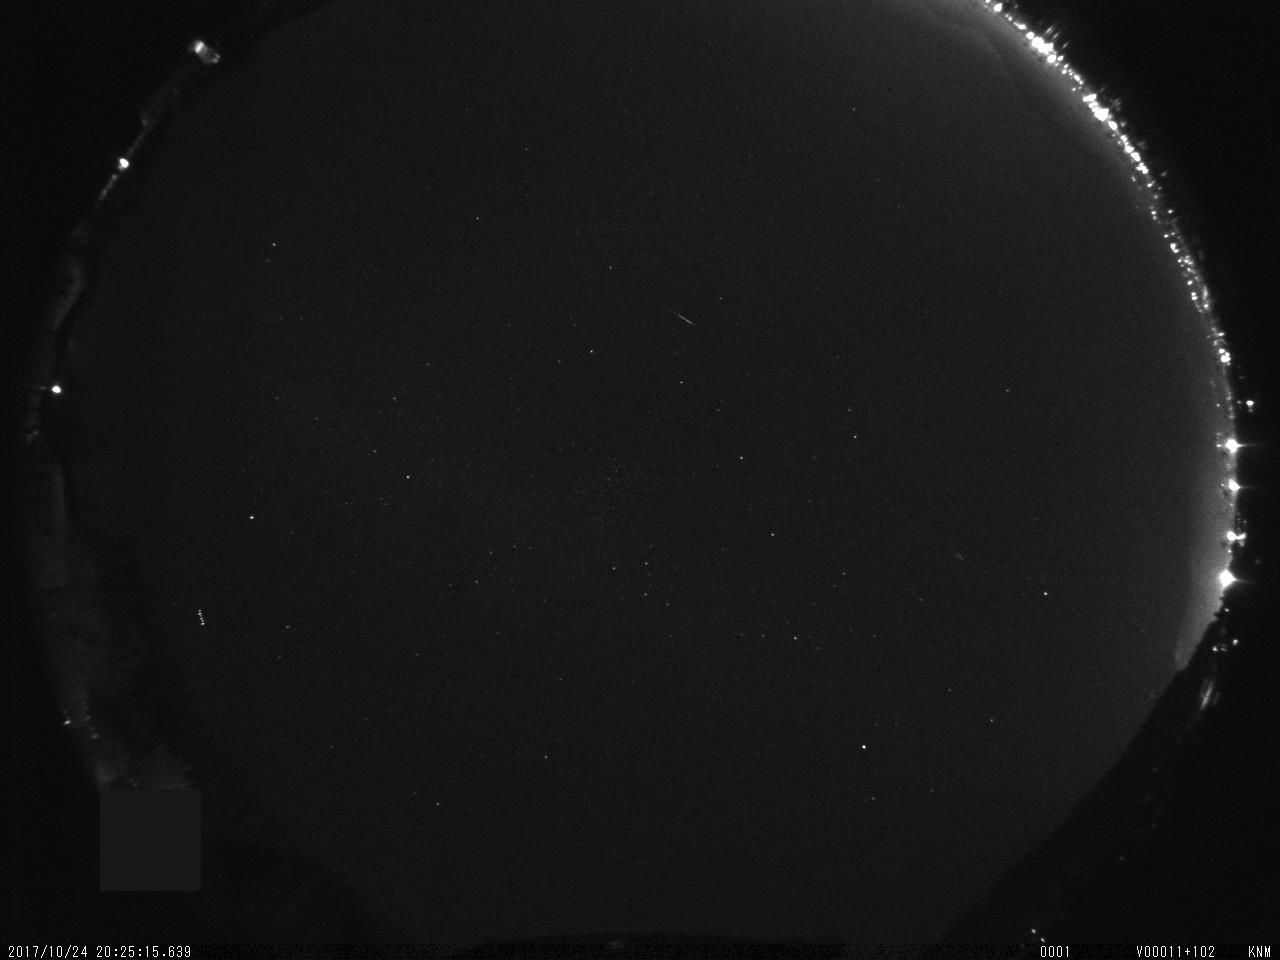meteor: (664, 303, 706, 334)
